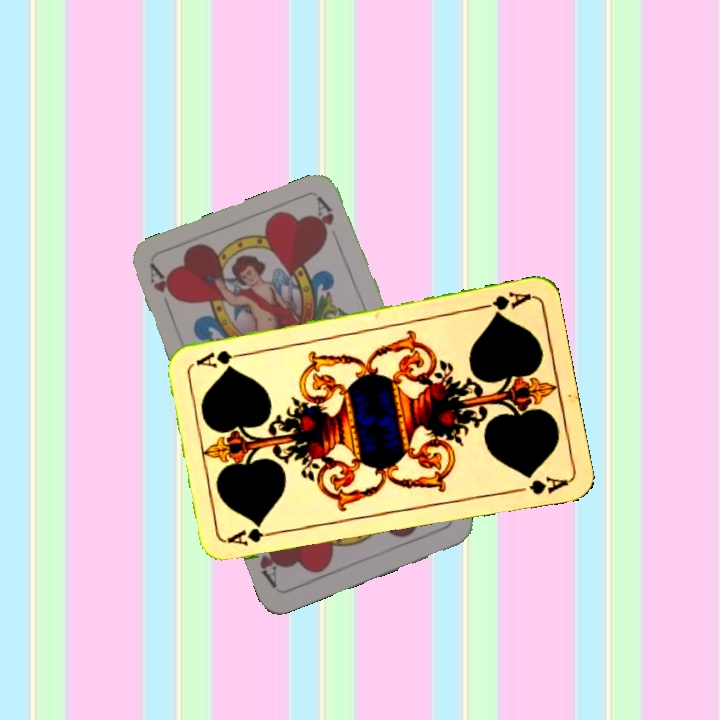GA: (474, 287, 533, 318), (224, 525, 283, 549)
HA: (145, 261, 179, 319)
